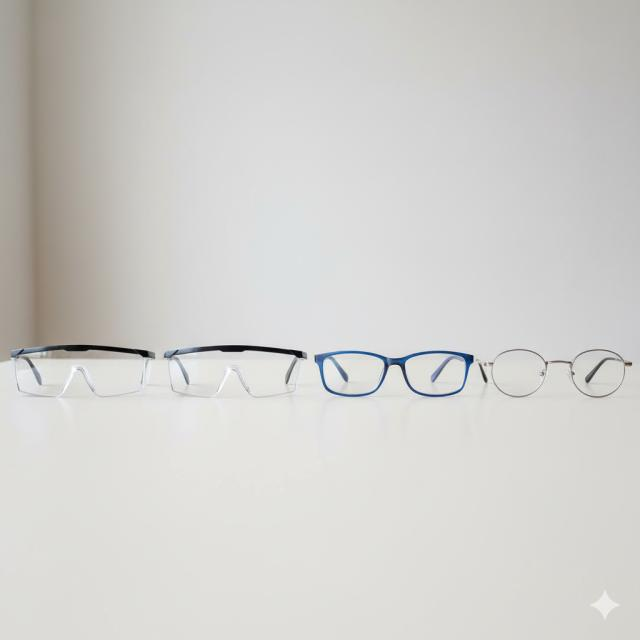oculos-epi: (166, 345, 306, 397), (12, 345, 151, 396)
sem_oculos: (477, 349, 632, 397), (315, 350, 473, 396)
